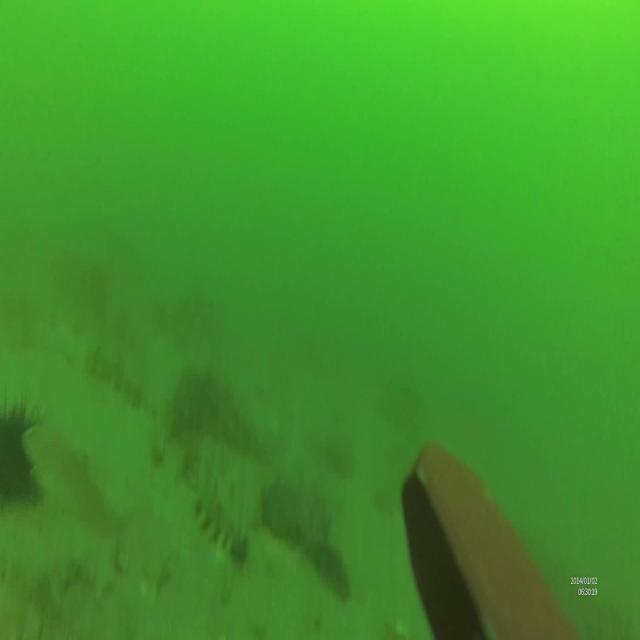echinus: (0, 392, 50, 505)
holothurian: (189, 435, 250, 564)
